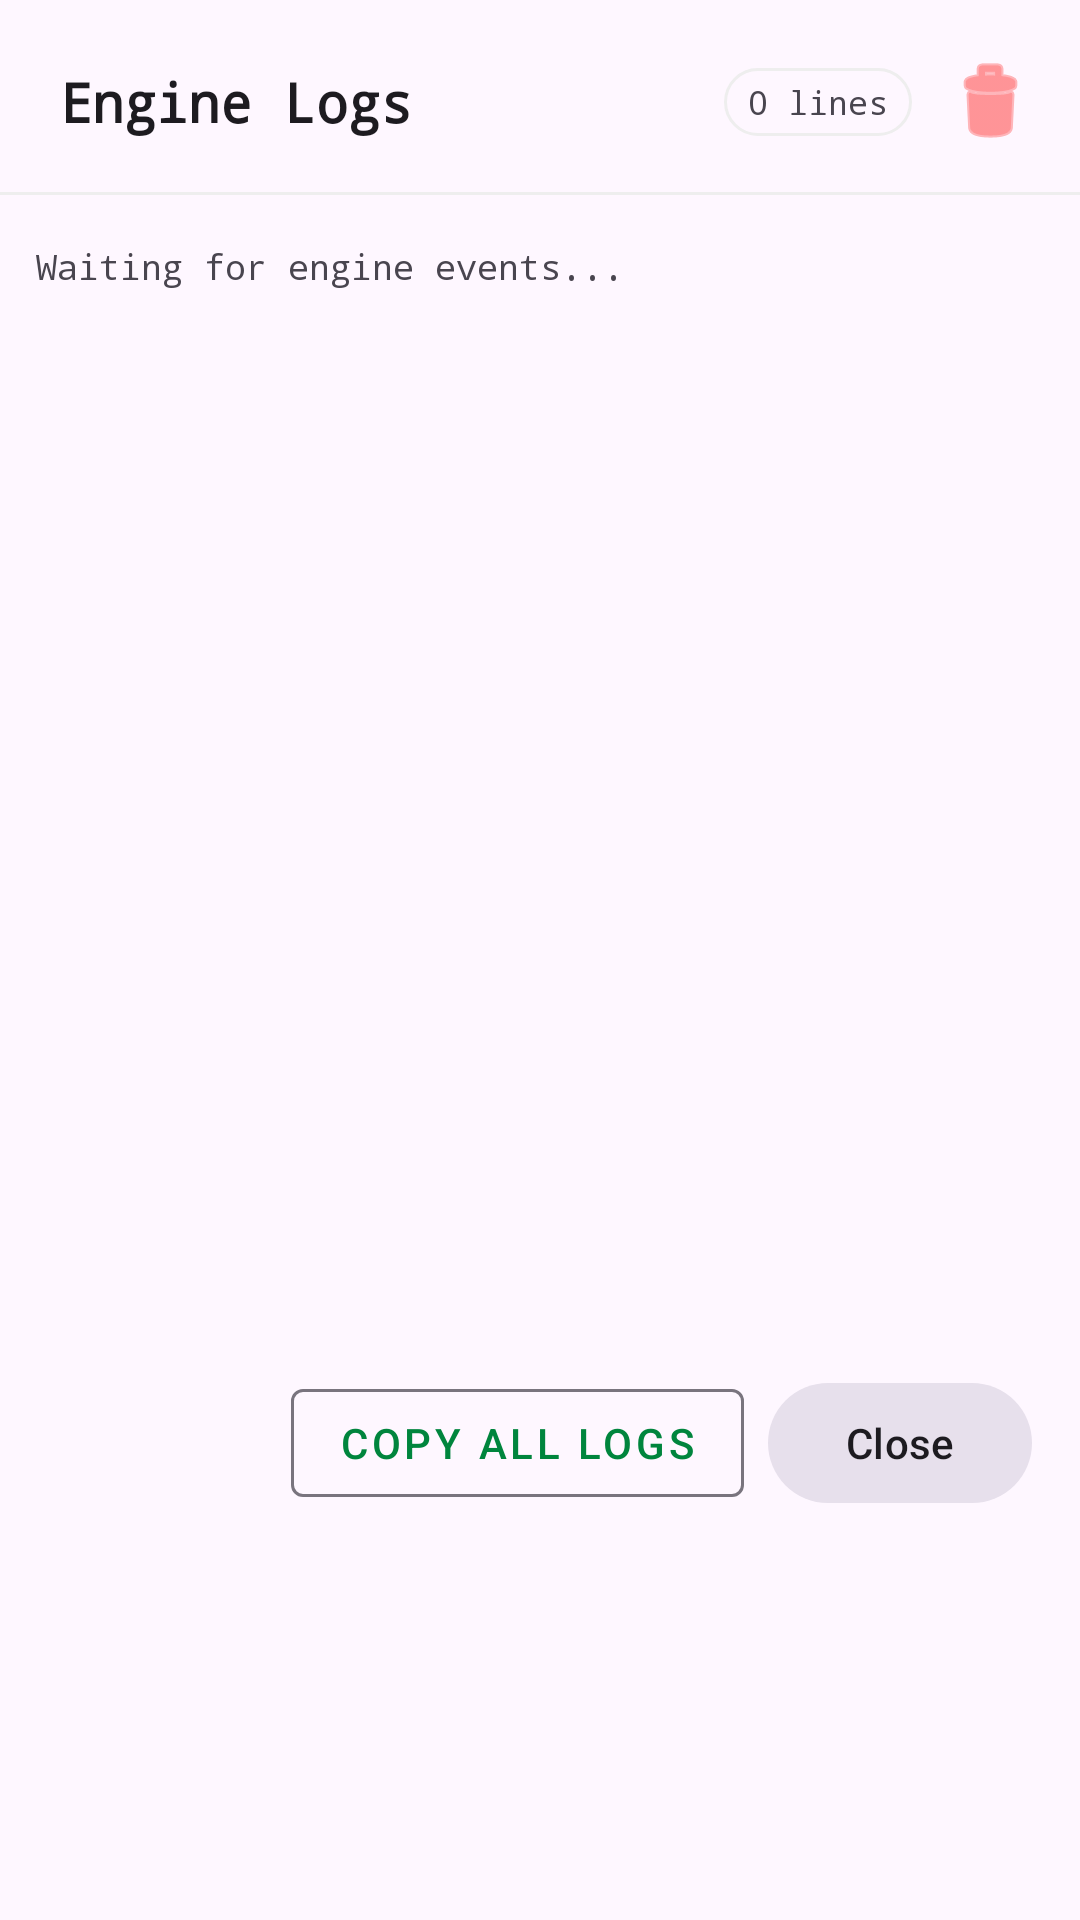

Icon click points for this 1080x1920 phone screenshot, format (x,y):
Clear logs: (990,100)
